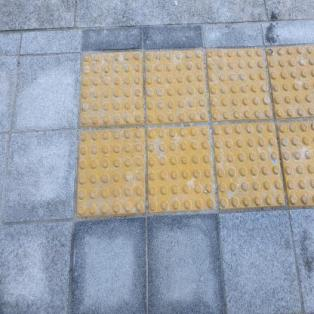Podoctatil: (73, 41, 314, 222)
